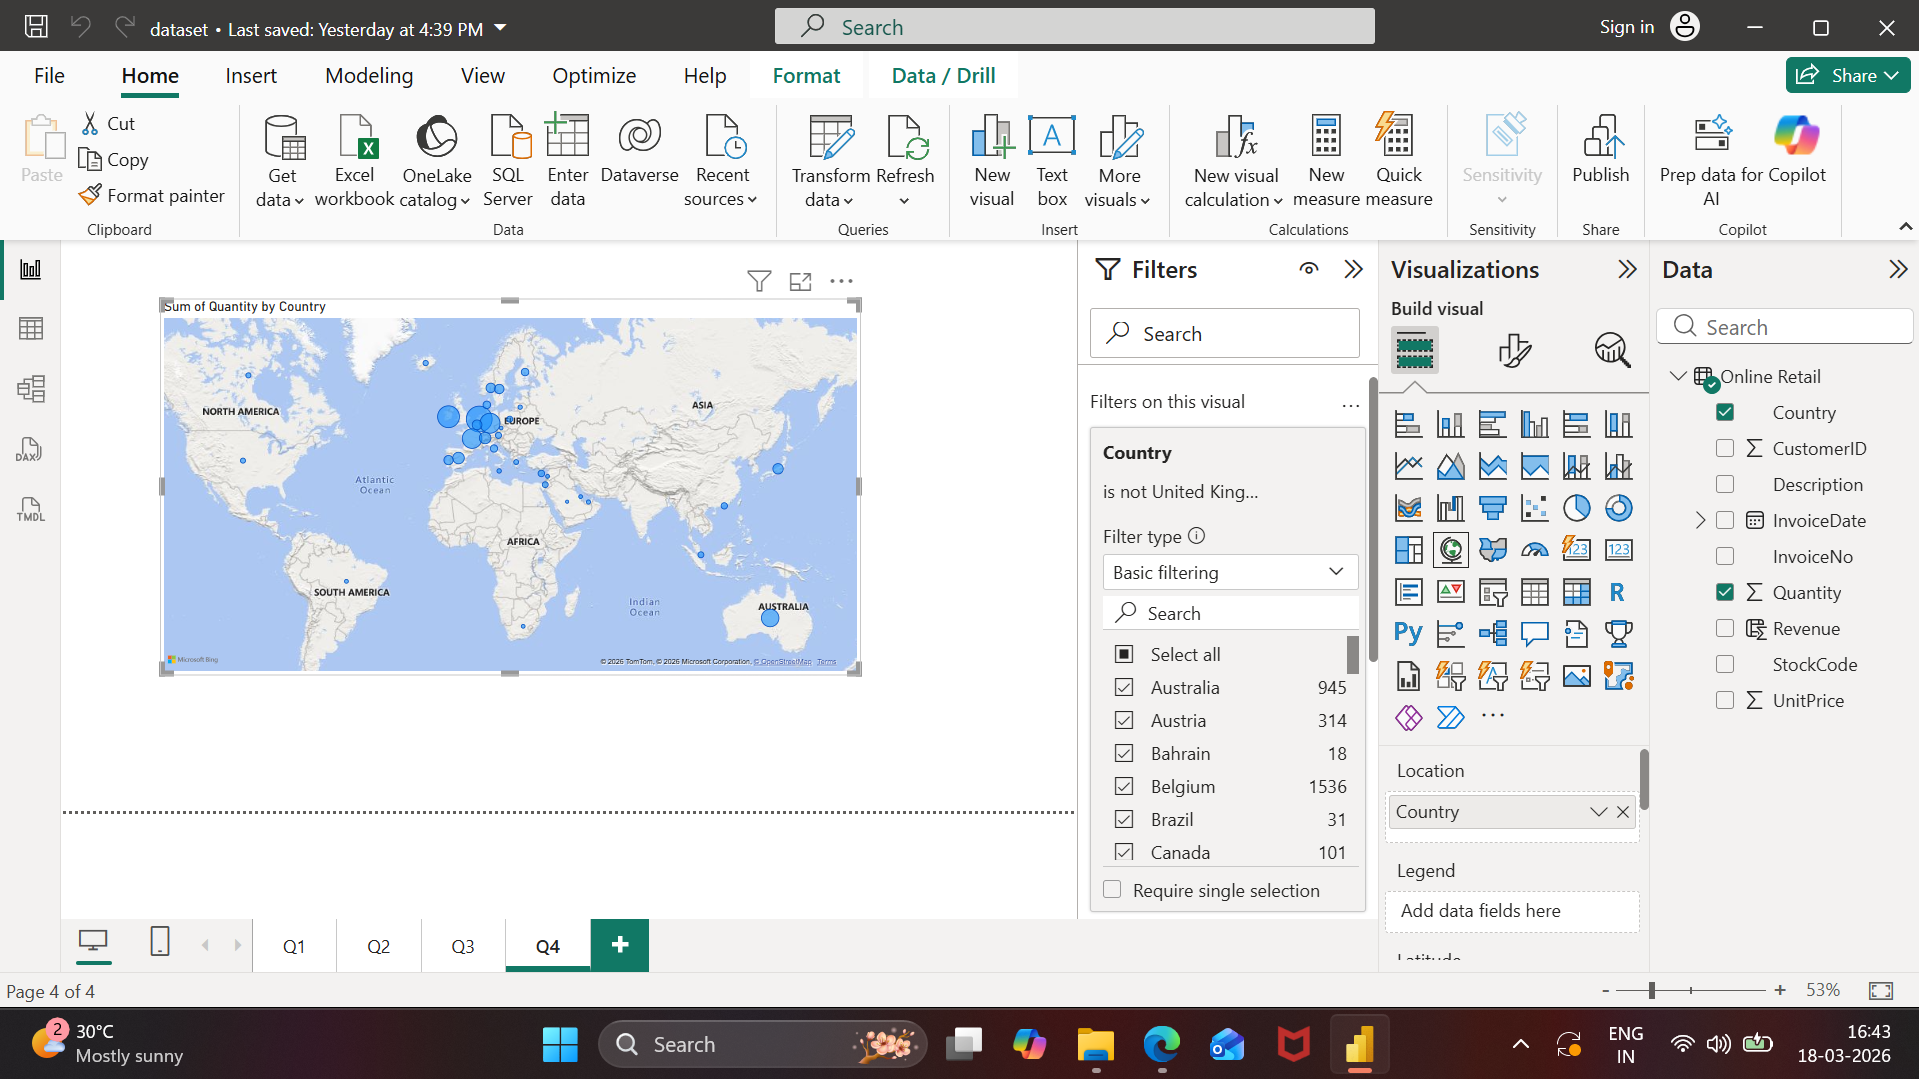

This screenshot's page, from the dashboard's own definition file:
{"tool":"powerbi","page":{"name":"Q4 ","canvas":[1280,720],"ordinal":3},"visuals":[{"type":"map","fields":{"Category":["Online Retail.Country"],"Size":["Sum(Online Retail.Quantity)"]},"box":[124.7,73.7,882.5,474.3],"z":0}]}

Visuals, with their boxes on the page's 1280x720 design canvas (x1, y1, x2, y2). These are canvas units, not pixel positions in the 1919x1079 screenshot, which may show the page scaled, cropped or inside an application window:
map - Online Retail.Country x Sum(Online Retail.Quantity): [left=125, top=74, right=1007, bottom=548]
